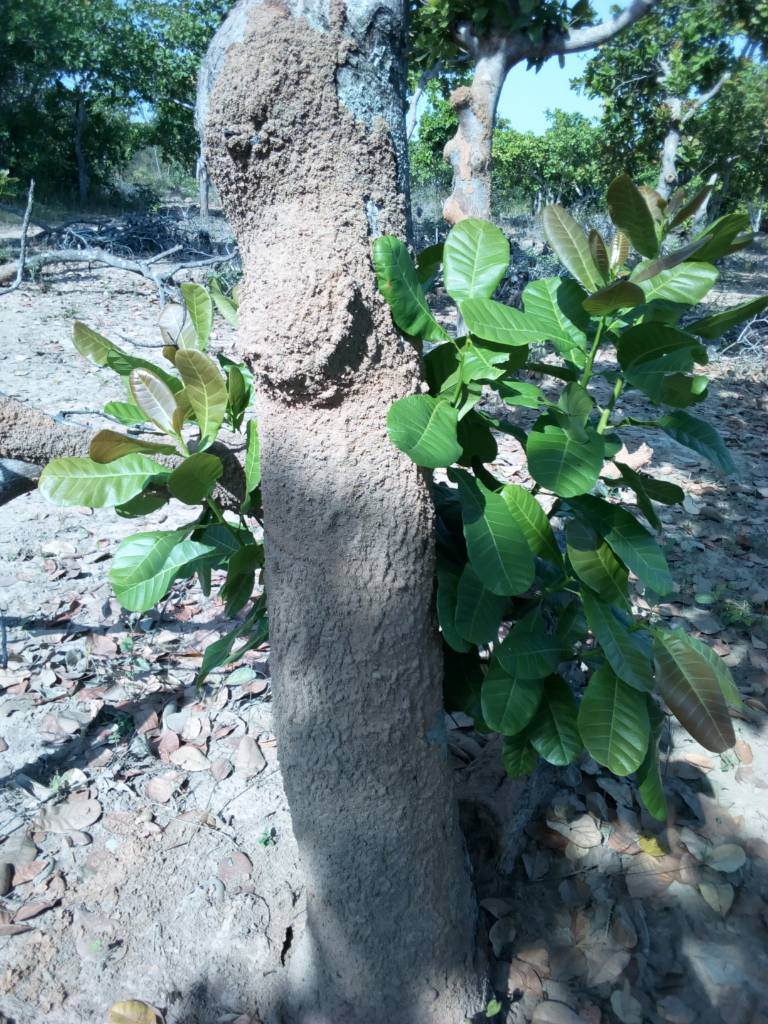Termites: (230, 38, 399, 594), (272, 603, 457, 885)
